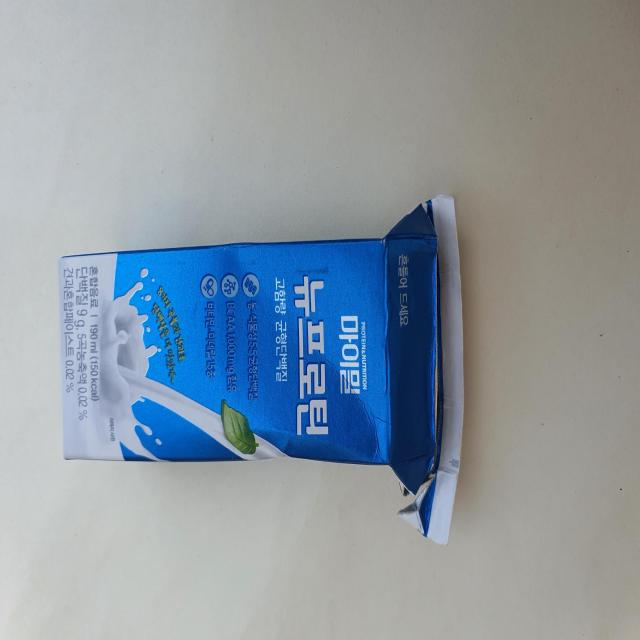paperpack: (58, 196, 463, 544)
